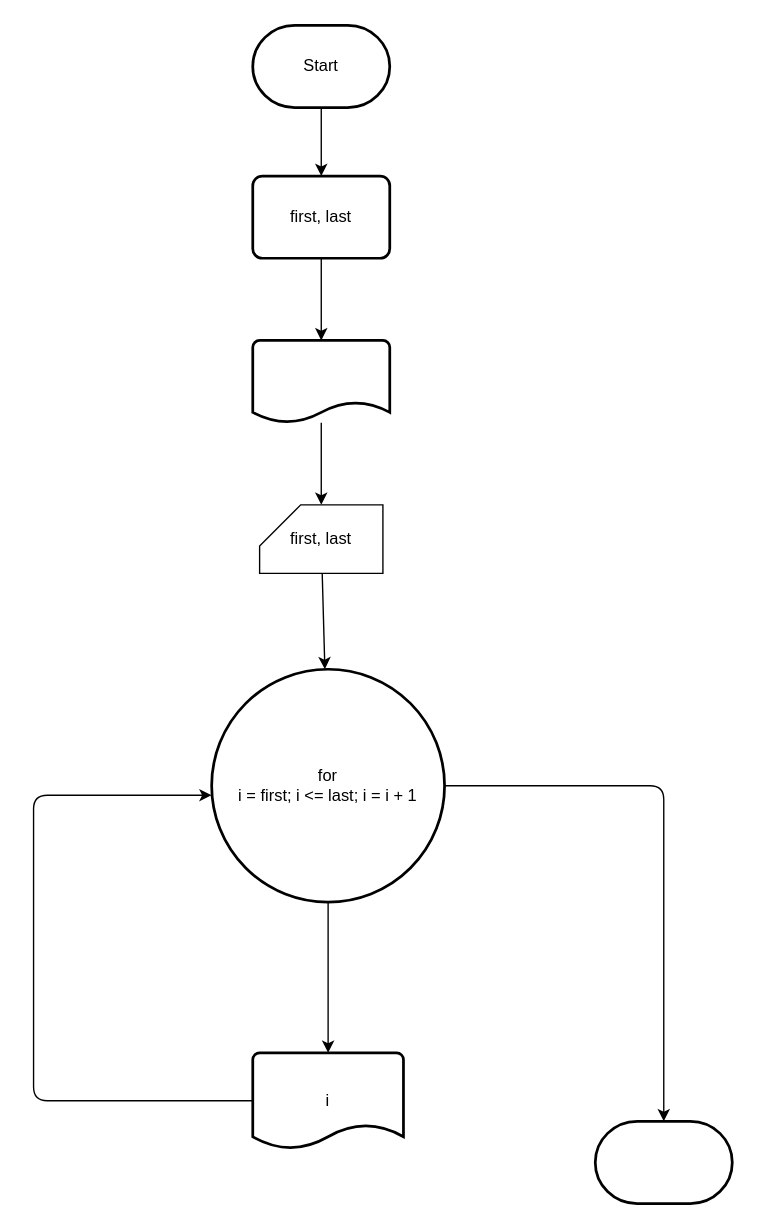
The diagram is 758 pixels wide and 1228 high, and some of its shapes have lost their labels. The centre of each missing label's shape, as x and y in pixels:
"Enter two numbers:": the point at 320,380
Stop: the point at 663,1161
